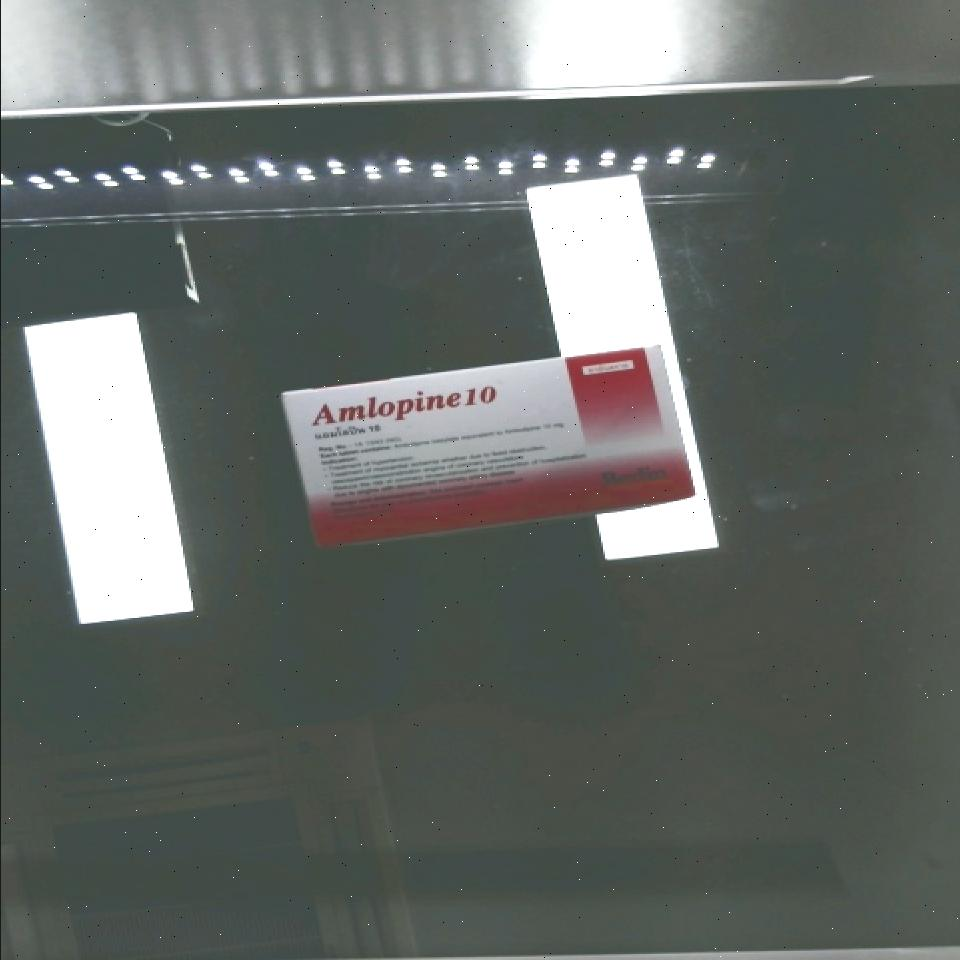medicine_box: (277, 341, 690, 548)
medicine_label_obb: (292, 367, 515, 443)
